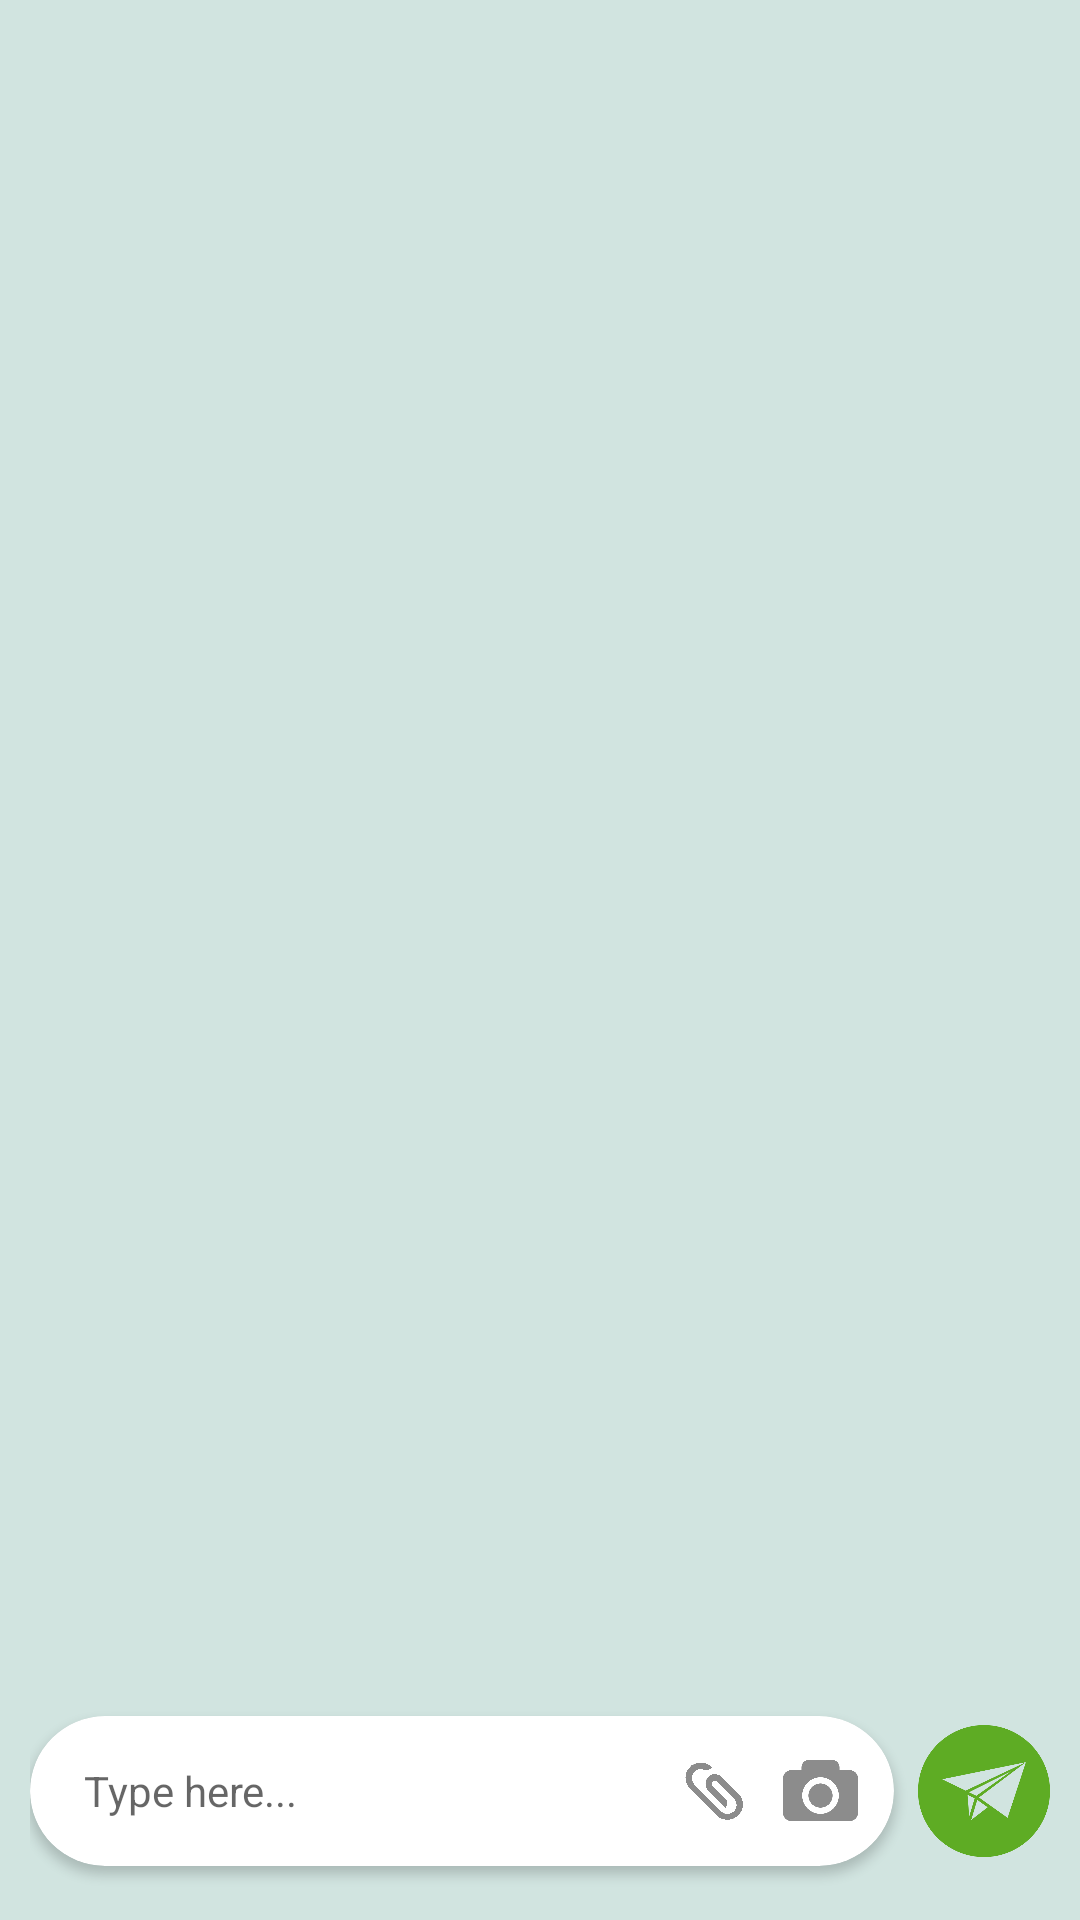

Icons on this 1080w x 1920h Android screen, each with the point to tap as (x=x, y=y):
attachment: (x=714, y=1791)
cam: (x=820, y=1790)
send: (x=984, y=1791)
